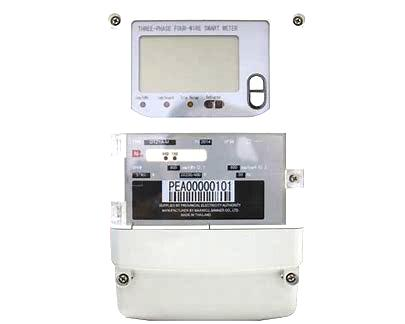digital: (109, 9, 302, 272)
